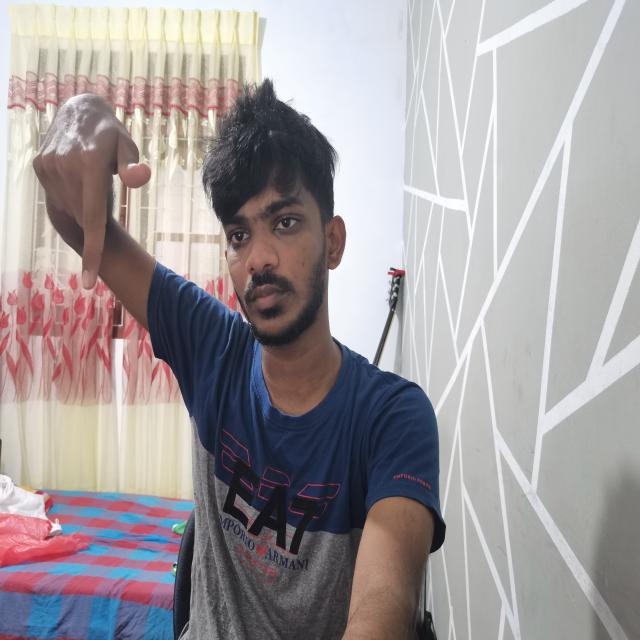Yes: (24, 78, 149, 302)
